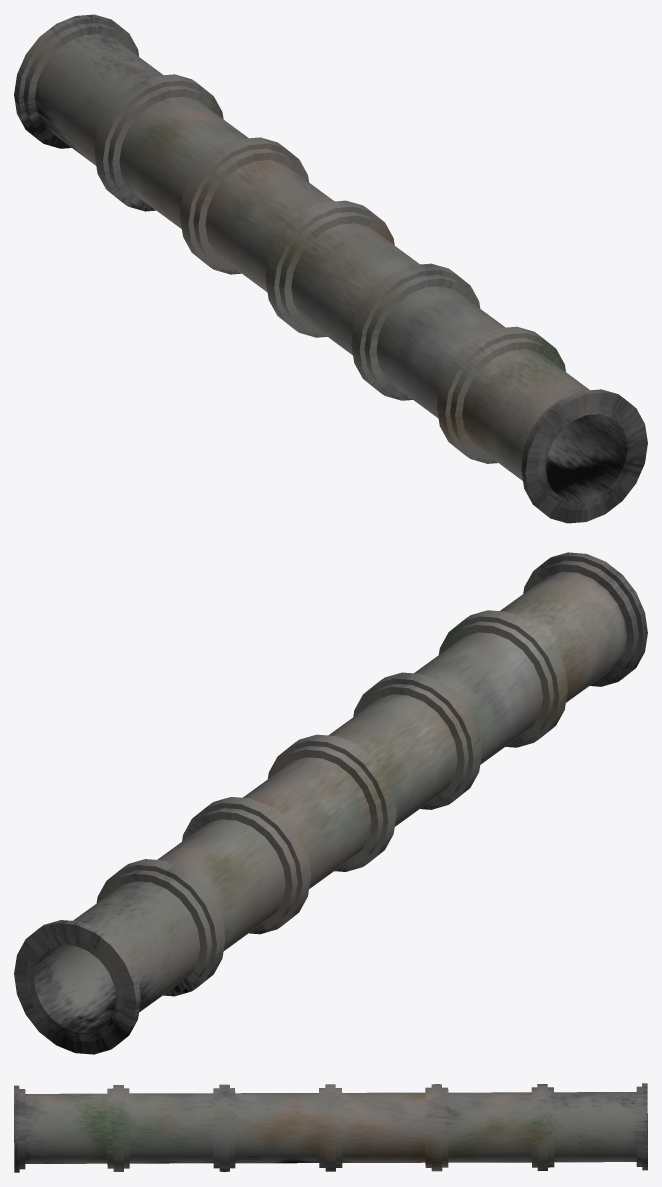
File: StraightPipe 1.fbx
3 renders of one model, top to bottom at view 1: azimuth 30°, elevation 25°; view 2: azimuth 150°, elevation 25°; view 3: azimuth 270°, elevation 25°, orthographic. The views are drawn at different scales.
Visible parts, largest first — view 1: StraightPipe; view 2: StraightPipe; view 3: StraightPipe.
Boxes of the visible parts, box(x1,y1,x2,y2) form: StraightPipe: box(14, 14, 647, 523); StraightPipe: box(14, 552, 647, 1054); StraightPipe: box(14, 1083, 647, 1172).
Size of the model in its own units: 0.0249 by 0.0255 by 0.1794.
Materials: 1 (1 with a texture image).
